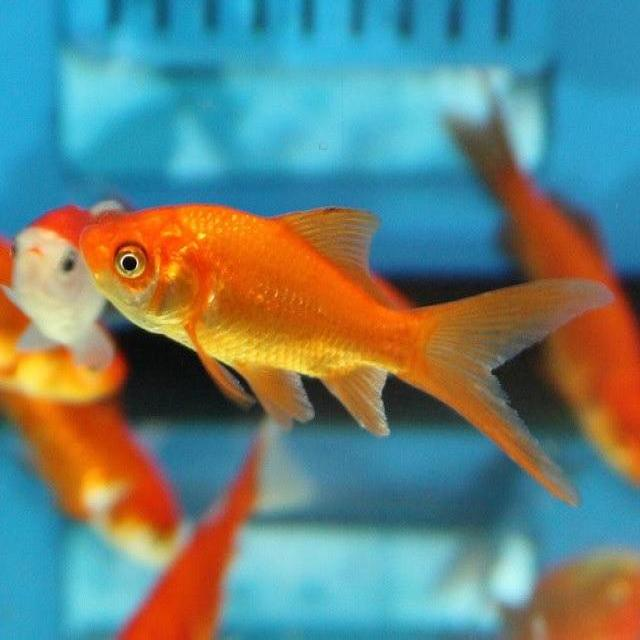GoldFish: (80, 189, 614, 500)
